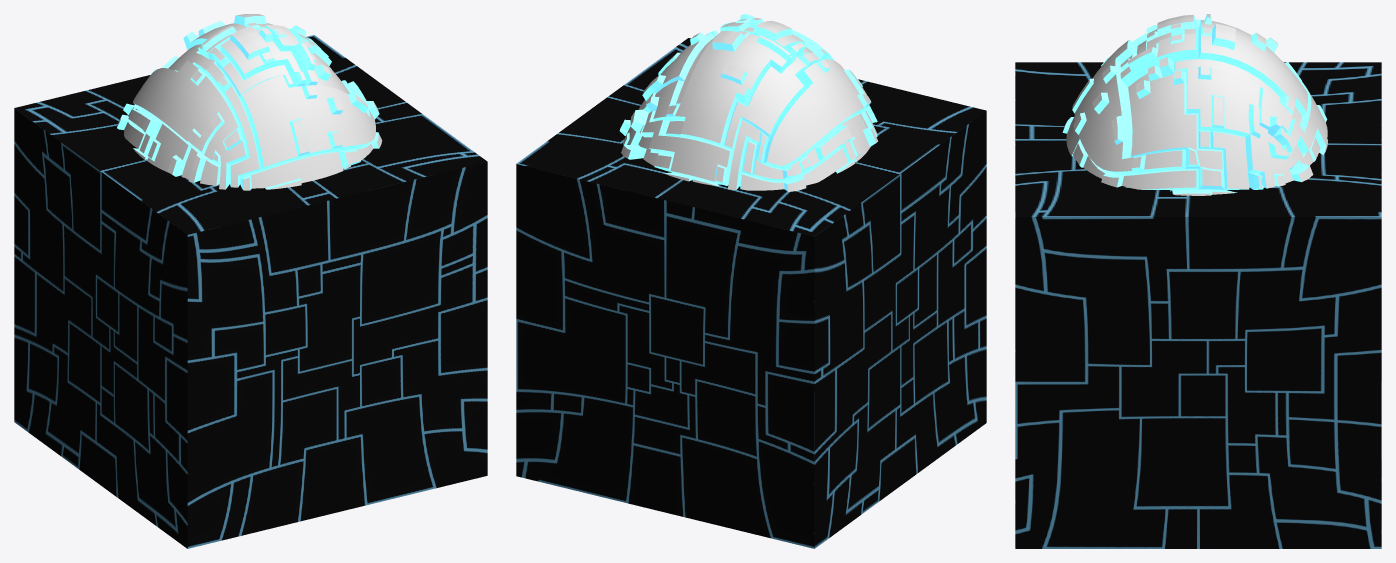
File: eggBox07.glb
The picture shows the model from 3 angles, left to right: view 1: azimuth 30°, elevation 25°; view 2: azimuth 150°, elevation 25°; view 3: azimuth 270°, elevation 25°; orthographic projection. The views are drawn at different scales.
Visible parts, largest first — view 1: Cube, egg; view 2: Cube, egg; view 3: Cube, egg.
Boxes of the visible parts, box(x1,y1,x2,y2) form: Cube: box(14, 35, 487, 548); egg: box(117, 14, 382, 190); Cube: box(516, 38, 986, 548); egg: box(619, 14, 878, 191); Cube: box(1015, 62, 1381, 548); egg: box(1062, 14, 1327, 195).
Bounding box in the file's own units: 2 × 2.71 × 2.
8 materials, 6 textured.
